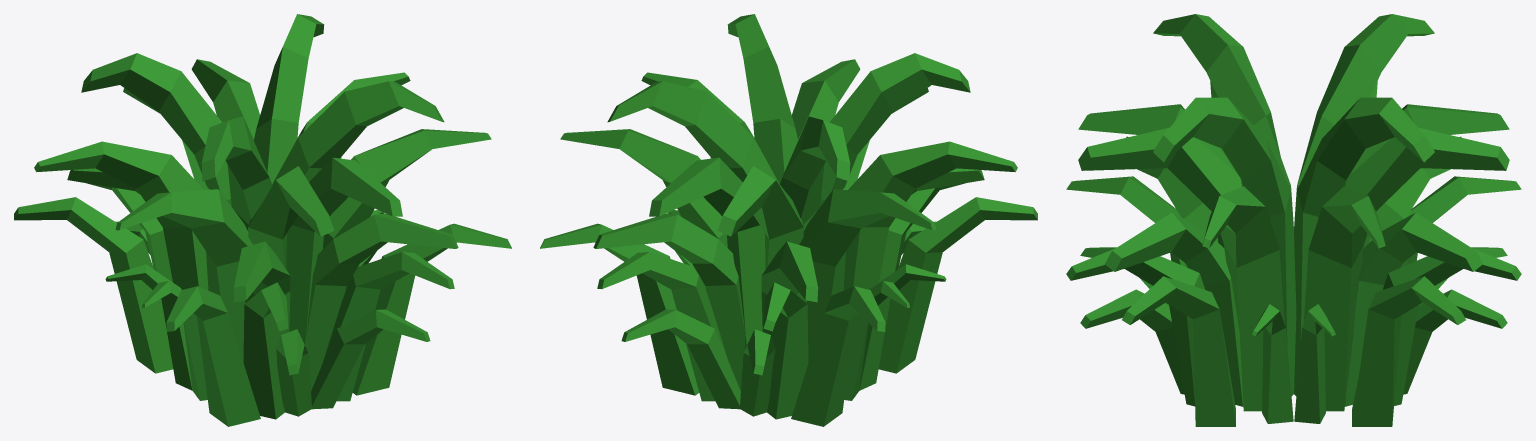
The model's file is anemone-coral.glb.
3 views of the same model, side by side, from view 1: azimuth 30°, elevation 25°; view 2: azimuth 150°, elevation 25°; view 3: azimuth 270°, elevation 25° (orthographic). The views are drawn at different scales.
Visible parts, largest first — view 1: Cube.004_Cube.011; view 2: Cube.004_Cube.011; view 3: Cube.004_Cube.011.
Part boxes in pixels (x1=…): Cube.004_Cube.011: x1=14, y1=14, x2=511, y2=426; Cube.004_Cube.011: x1=540, y1=14, x2=1037, y2=426; Cube.004_Cube.011: x1=1066, y1=14, x2=1521, y2=426.
Size of the model in its own units: 2.46 by 1.92 by 2.42.
